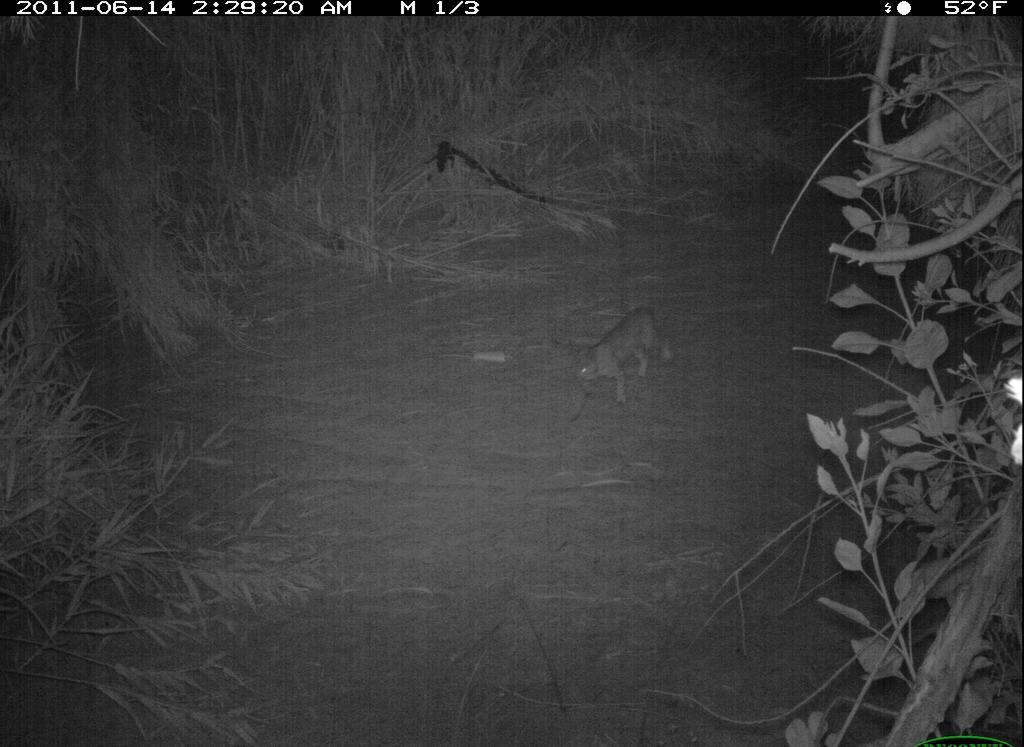bobcat: (568, 306, 684, 406)
